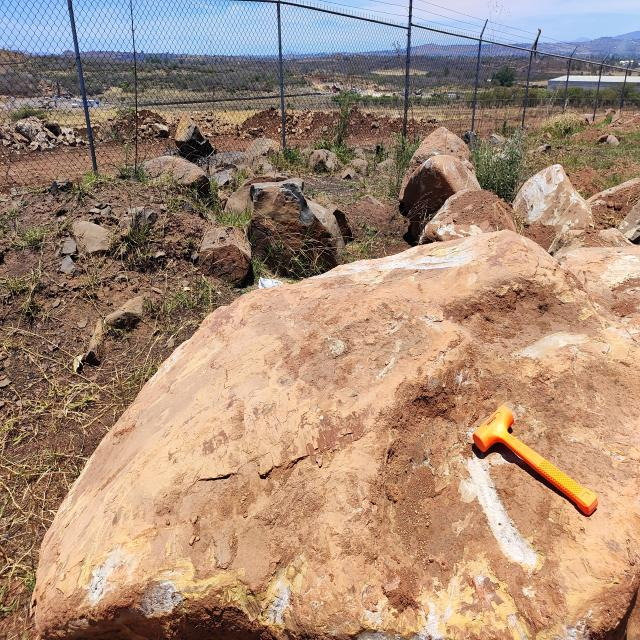Orange_hammer: (472, 404, 598, 517)
